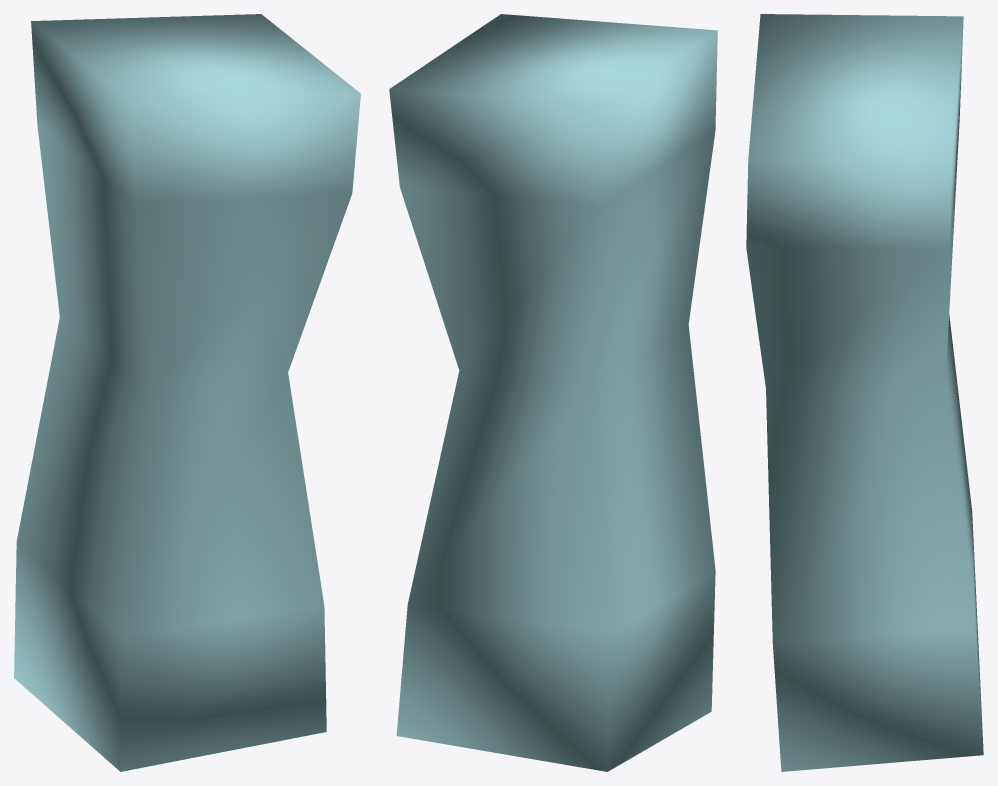
The model's file is Skelly_f_ring.02.L.fbx.
3 renders of one model, left to right at view 1: azimuth 30°, elevation 25°; view 2: azimuth 150°, elevation 25°; view 3: azimuth 270°, elevation 25°, orthographic. The views are drawn at different scales.
Visible parts, largest first — view 1: Skelly_f_ring.02.L; view 2: Skelly_f_ring.02.L; view 3: Skelly_f_ring.02.L.
Boxes of the visible parts, box(x1,y1,x2,y2) form: Skelly_f_ring.02.L: box(14, 14, 360, 771); Skelly_f_ring.02.L: box(389, 14, 717, 771); Skelly_f_ring.02.L: box(746, 14, 983, 771).
Bounding box in the file's own units: 1.35 × 3.8 × 1.24.
